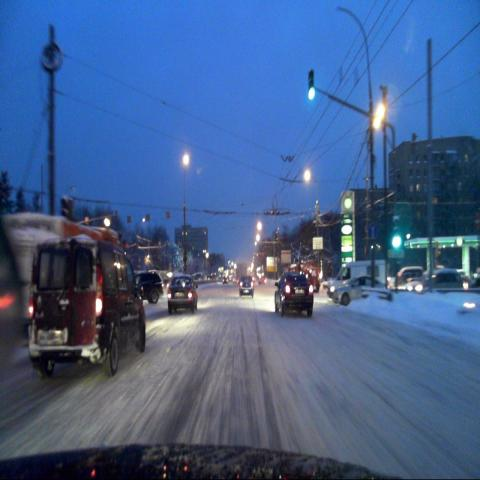4_1_1: (368, 221, 378, 241)
